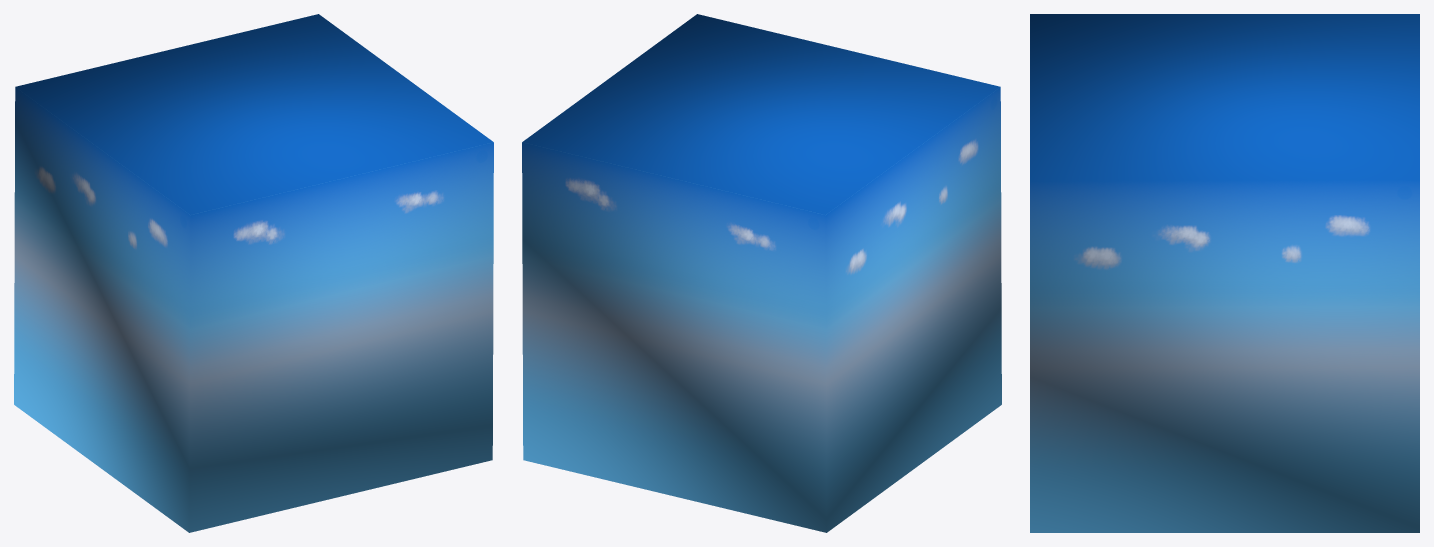
The model's file is stage3.gltf.
3 views of the same model, side by side, from view 1: azimuth 30°, elevation 25°; view 2: azimuth 150°, elevation 25°; view 3: azimuth 270°, elevation 25° (orthographic). The views are drawn at different scales.
Parts seen in each view (by area): view 1: Cube; view 2: Cube; view 3: Cube.
Boxes of the visible parts, x1,y1,x2,y2 form: Cube: (14,14,493,532); Cube: (522,14,1001,532); Cube: (1030,14,1419,532).
Bounding box in the file's own units: 448 × 448 × 446.
